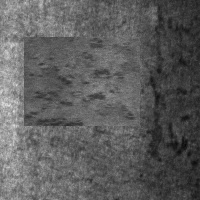crazing: (27, 115, 145, 185), (146, 3, 194, 164)
rolled-in_scale: (24, 37, 140, 126)
